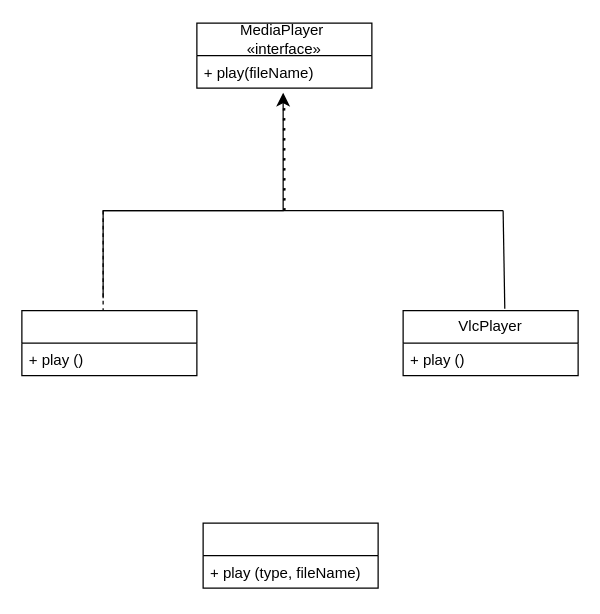
Some shapes in this 600 by 614 pixel diagram are drawn without their labels. Each missing label, with the box of its shape:
Audio Player: (202, 522, 378, 588)
Mp4Player: (21, 309, 197, 376)
